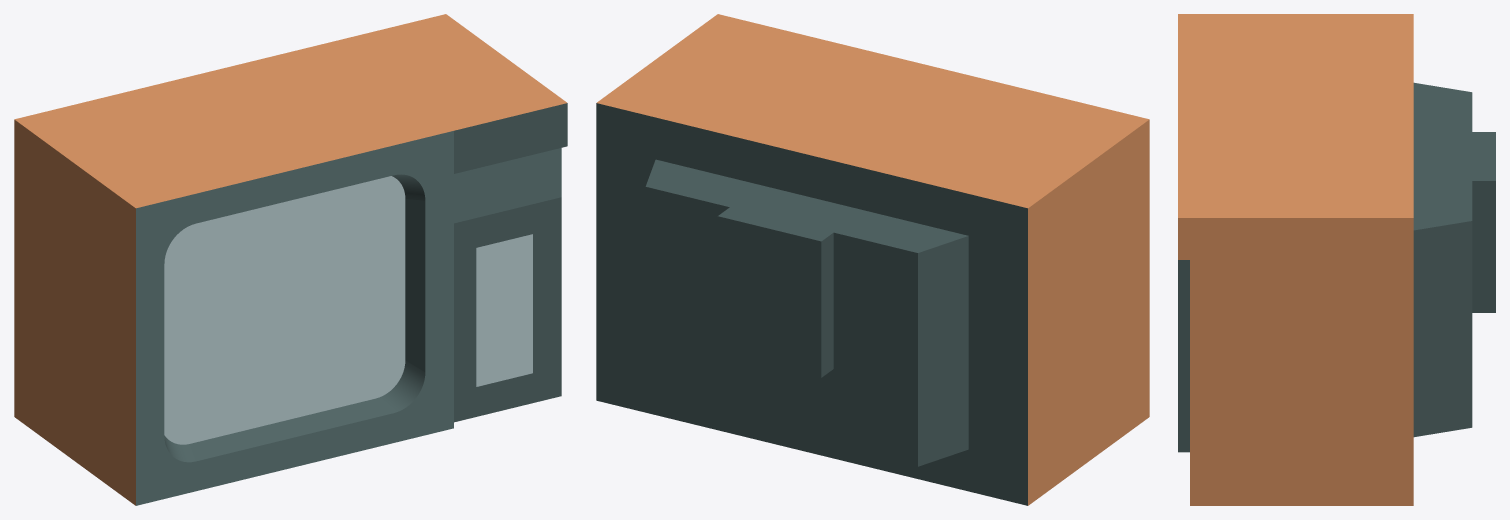
File: Television Vintage.glb
3 views of the same model, side by side, from view 1: azimuth 30°, elevation 25°; view 2: azimuth 150°, elevation 25°; view 3: azimuth 270°, elevation 25° (orthographic). The views are drawn at different scales.
Visible parts, largest first — view 1: televisionVintage(Clone); view 2: televisionVintage(Clone); view 3: televisionVintage(Clone).
Part boxes in pixels (bbox=[...]): televisionVintage(Clone): bbox=[14, 14, 567, 505]; televisionVintage(Clone): bbox=[596, 14, 1149, 505]; televisionVintage(Clone): bbox=[1178, 14, 1495, 505].
Size of the model in its own units: 0.41 by 0.27 by 0.27.
